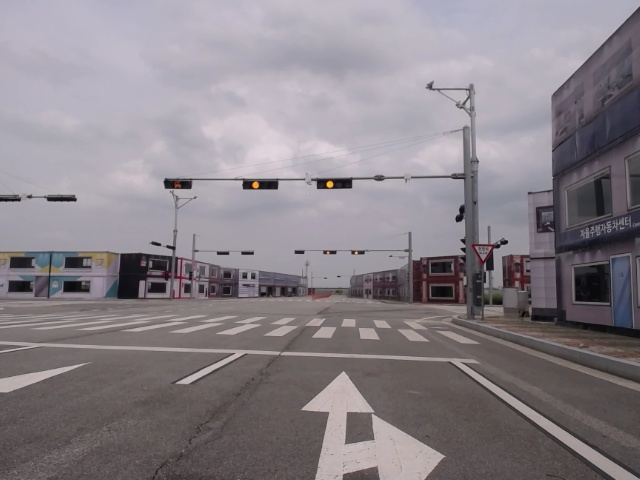orange_4: (243, 177, 281, 191), (317, 178, 353, 192), (321, 248, 338, 256), (351, 250, 366, 256)
